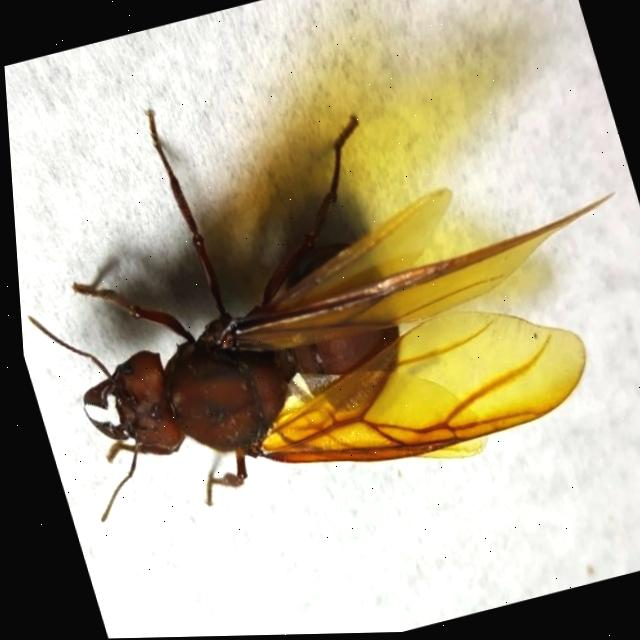Alive-Female-Alate: (1, 3, 640, 554)
